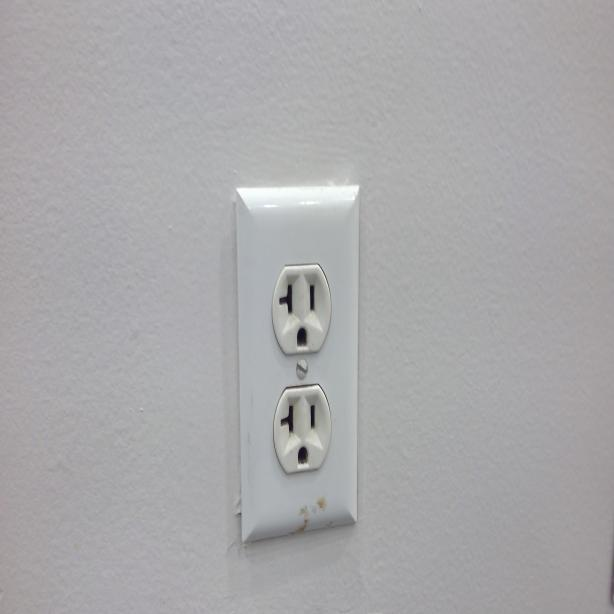typeb: (280, 382, 324, 470), (277, 271, 321, 348)
